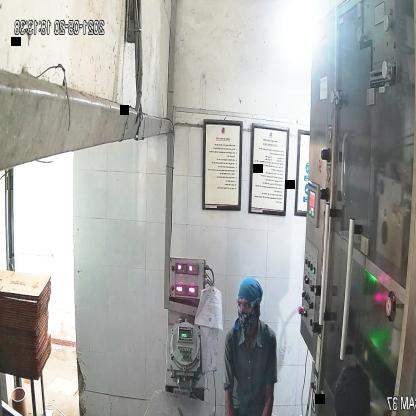goggles: (236, 296, 261, 317)
